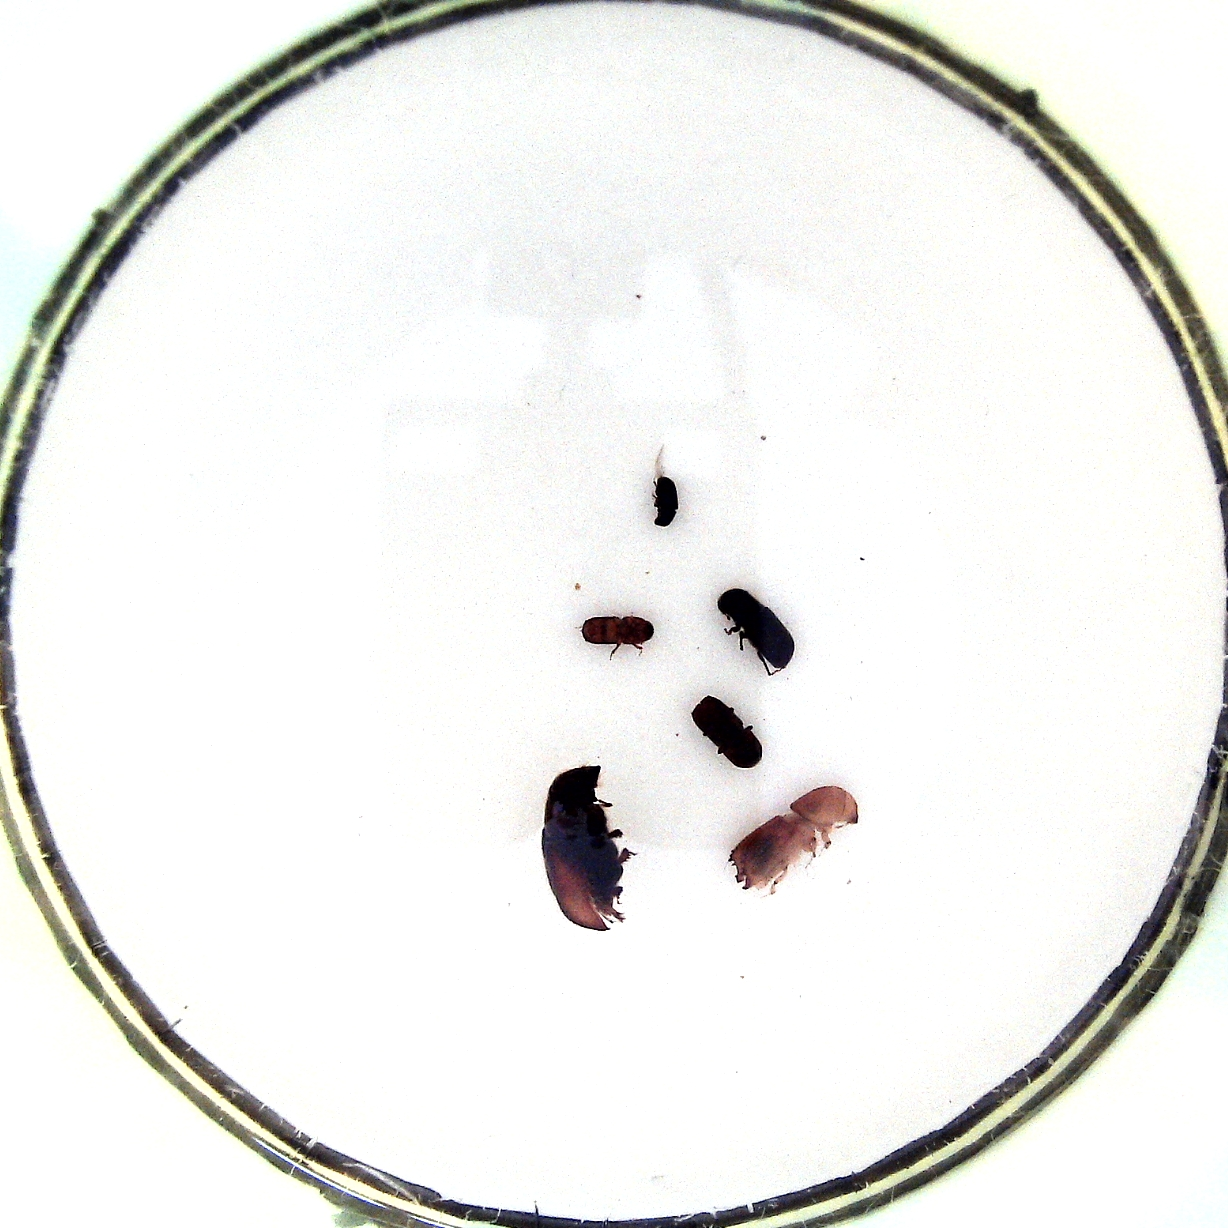Boerner: (721, 786, 867, 894)
Leconte: (538, 758, 634, 938)
Linnaeus: (690, 695, 765, 774)
acuminatus: (580, 607, 663, 661)
armandi: (714, 581, 795, 676)
coleoptera: (644, 459, 686, 535)
